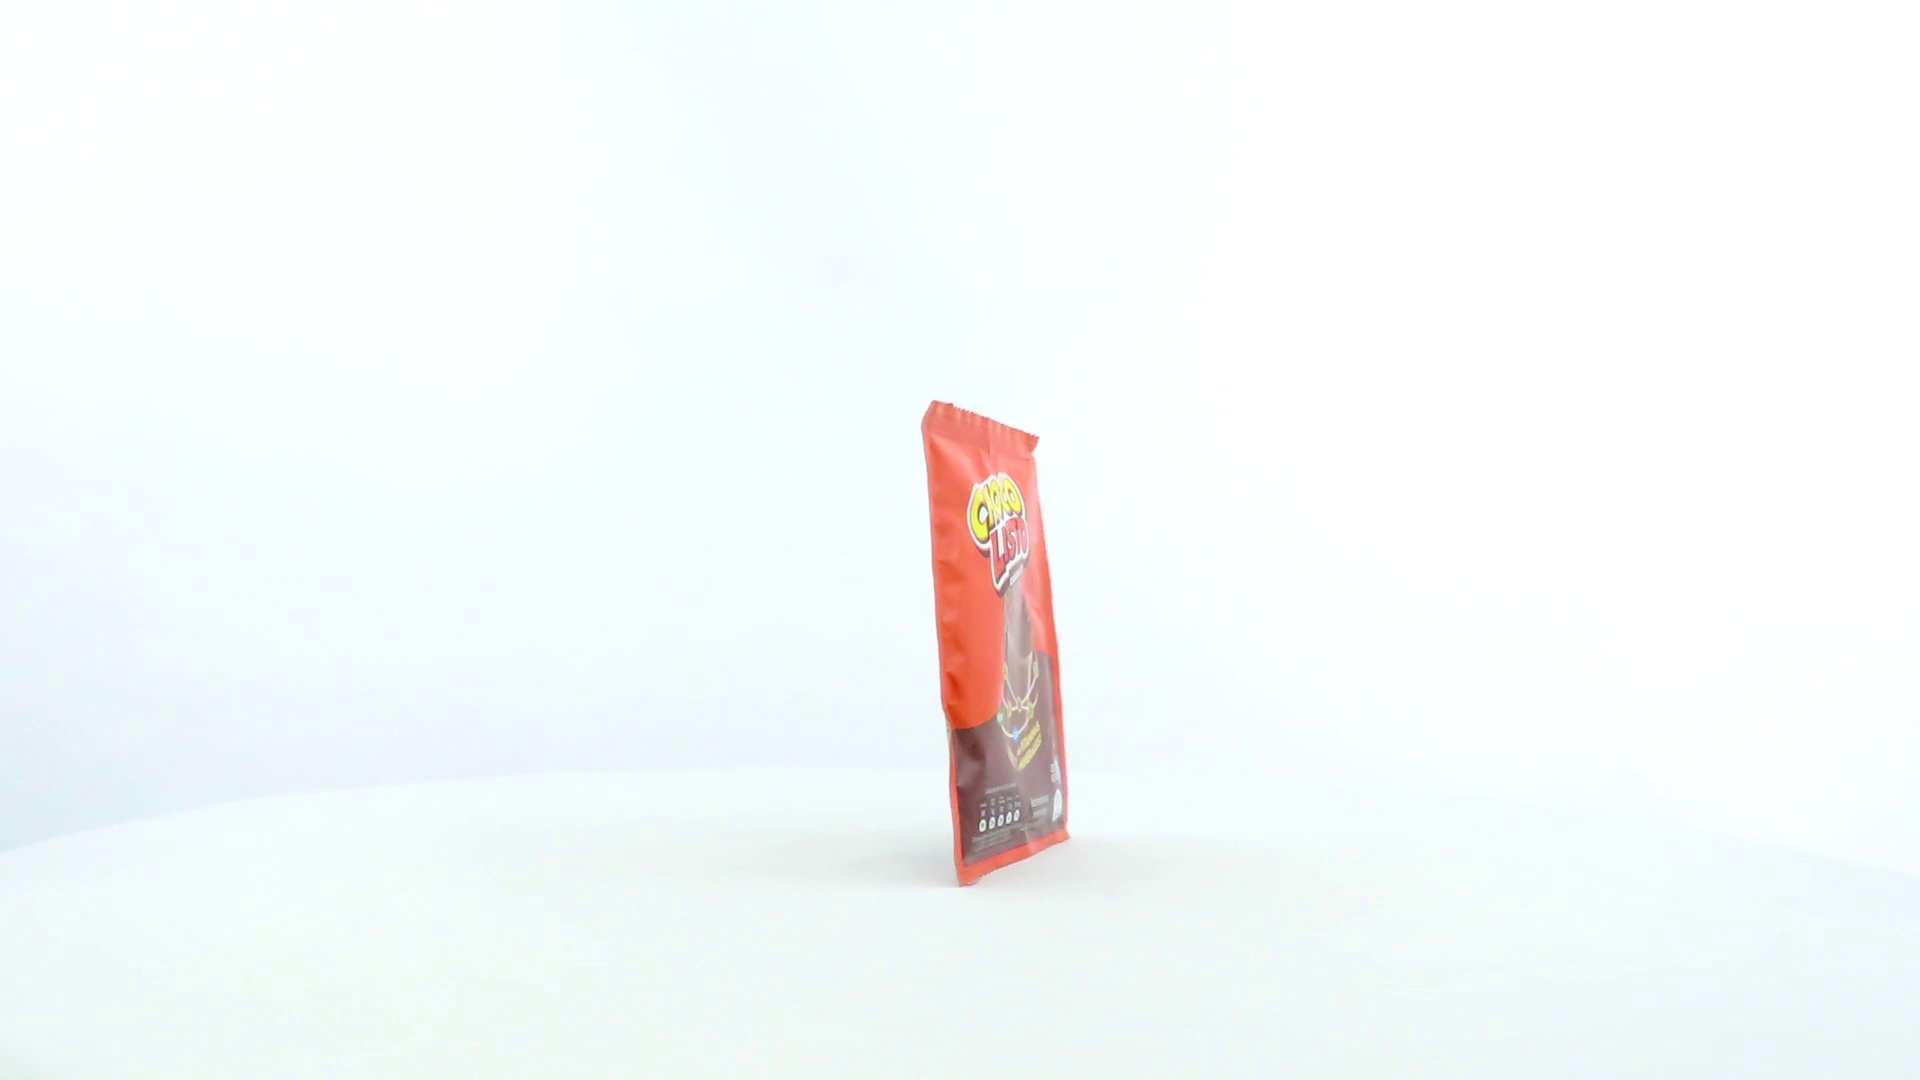COL0170103SOB02000: (884, 396, 1076, 895)
